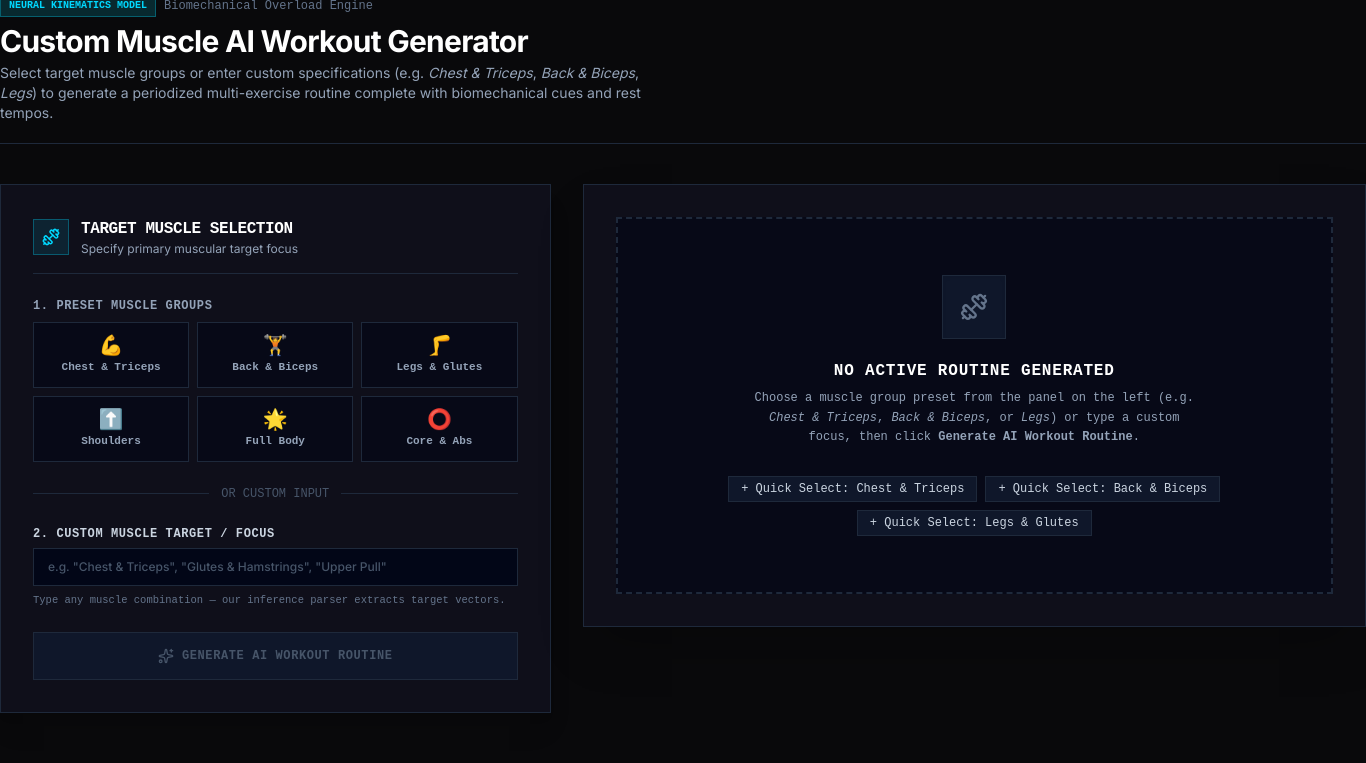
WorkoutGenerator Component › generates a multi-exercise routine when a muscle preset is clicked
This screenshot has width=1366, height=763.
// Click Chest & Triceps preset button
Click the button "💪 Chest & Triceps" at (111, 355), box [33,322,189,388]
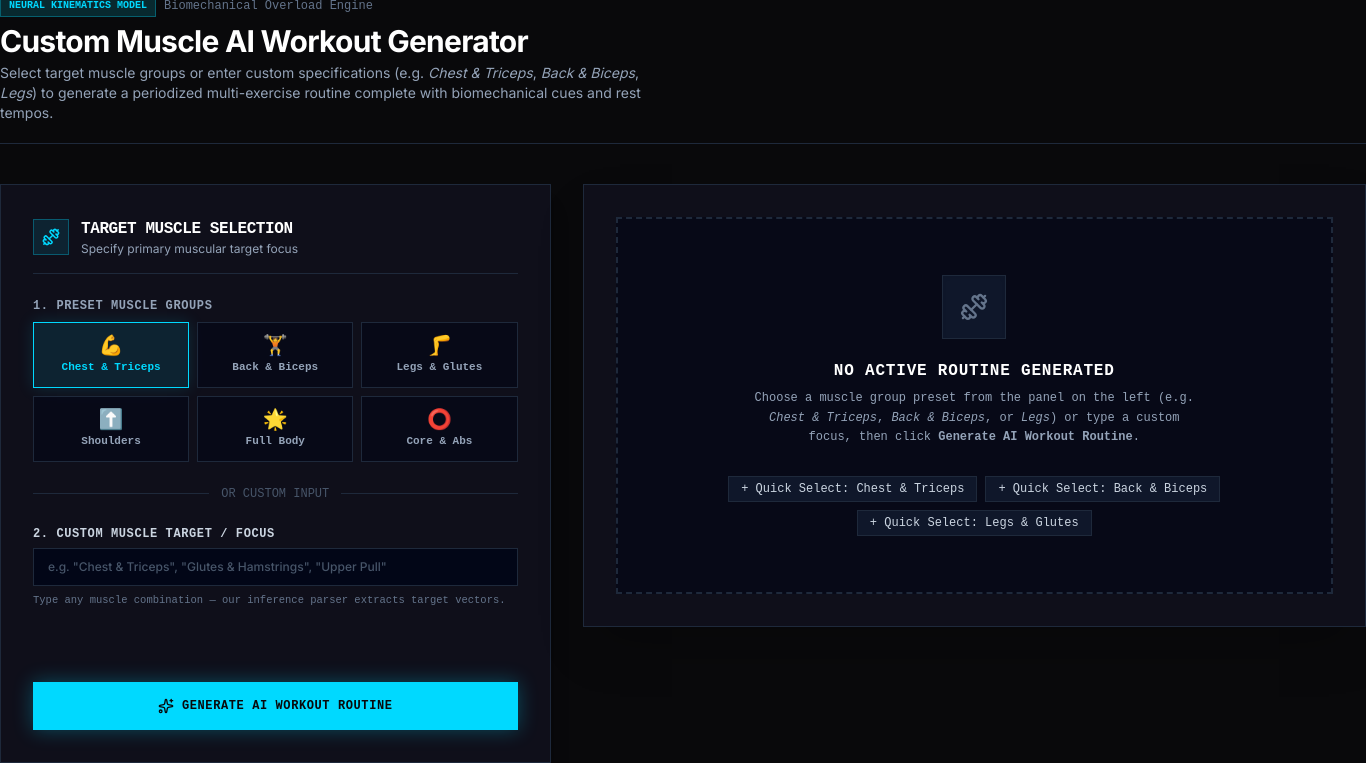
Click the button "Generate AI Workout Routine" at (275, 706), box [33,682,518,730]
Wait 3000 ms
(page scrolled)
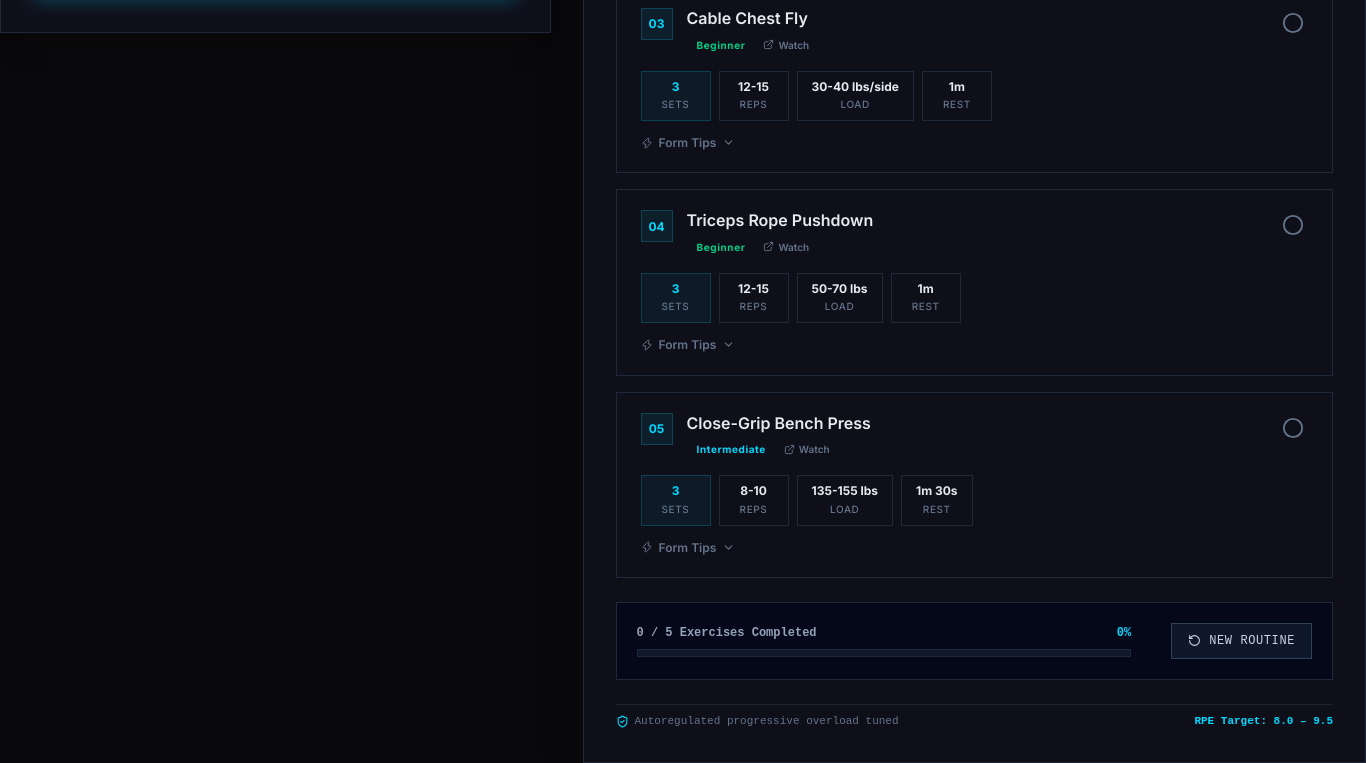
expect the heading "Triceps Rope Pushdown" is shown: met, box [686,210,873,230]
expect the text "0 / 5 Exercises Completed" is shown: met, box [636,625,816,641]
